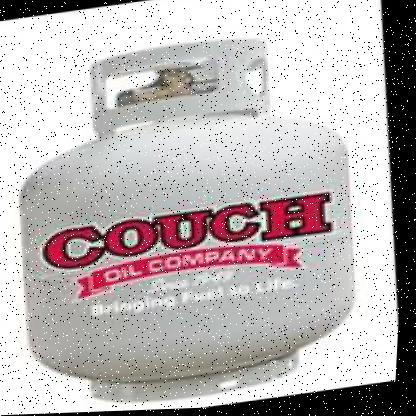gas-tank: (0, 0, 403, 415)
